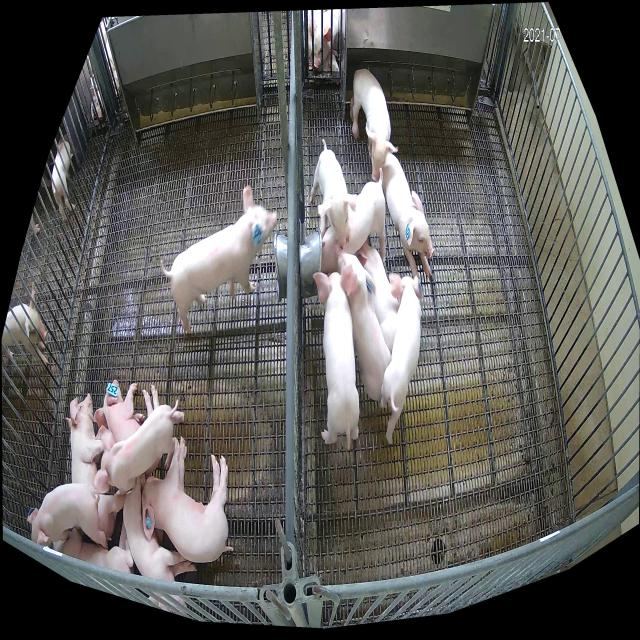pig: (160, 187, 277, 336), (142, 435, 233, 564), (123, 475, 198, 616), (332, 244, 391, 400), (66, 392, 124, 540), (313, 262, 359, 448), (94, 399, 184, 494), (379, 275, 422, 447), (320, 166, 386, 276), (383, 154, 436, 279), (350, 69, 398, 183), (27, 483, 109, 548), (355, 237, 400, 353), (310, 138, 356, 244), (53, 522, 135, 574), (94, 381, 145, 443)
